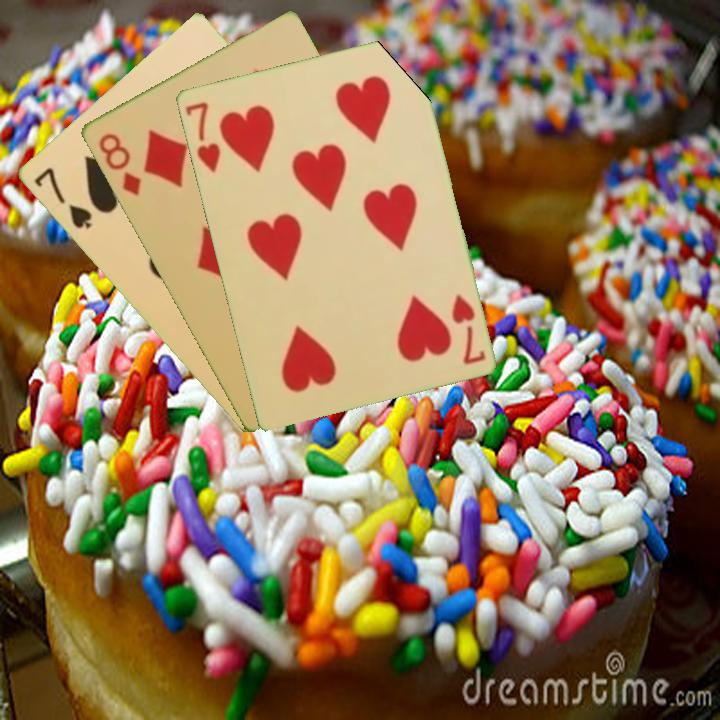7h: (181, 97, 223, 176), (447, 290, 488, 367)
7s: (30, 164, 95, 232)
8d: (94, 129, 144, 199)
